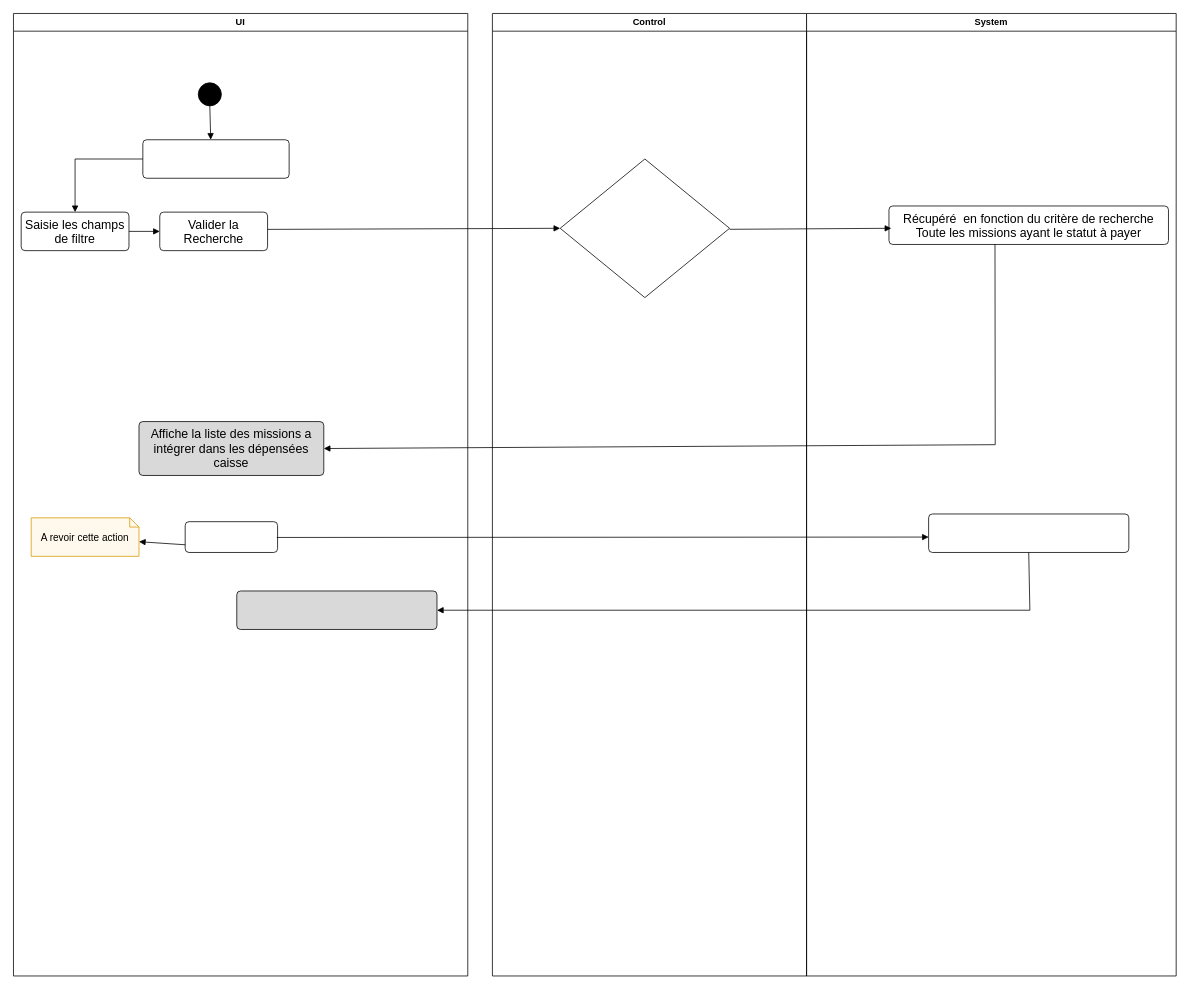
Some shapes in this 1190 by 989 pixel diagram are drawn without their labels. Each missing label, with the centre of its shape:
"Affiche toutes les missions qui constitue le lot" belongs at [336,609].
"Cliquer sur le Filtre de recherche" belongs at [215,158].
"Recupere toutes les missions qui constitue le lot" belongs at [1028,532].
"Valider" belongs at [231,536].
